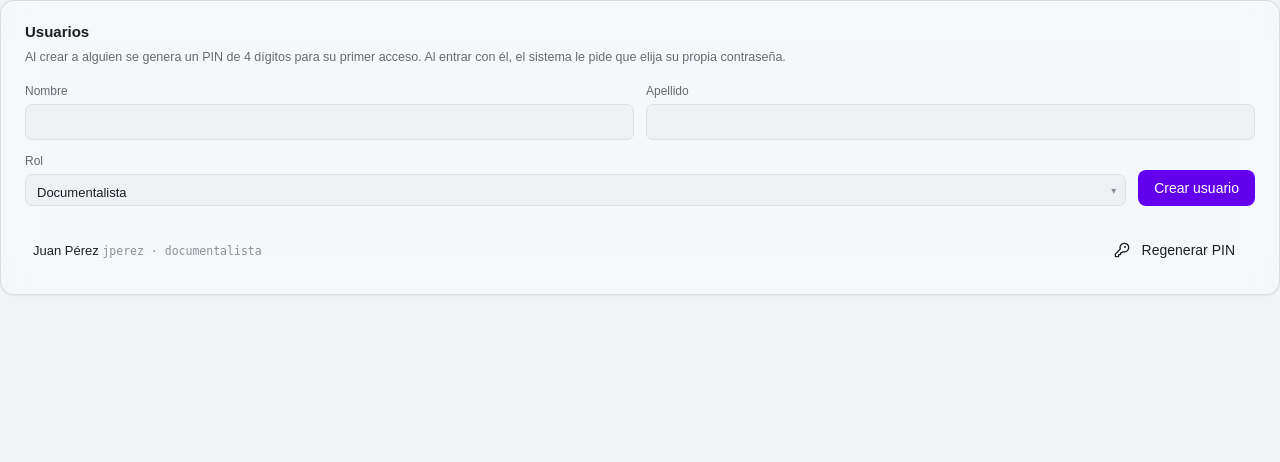
Scenario: UsersCard › muestra el PIN una sola vez al crear, con el aviso de que no se repite
Expected: the text "Juan Pérez" is shown, [33,242,99,258]
Type "María" into the field labelled "Nombre" at (330, 122), box [25,104,634,140]
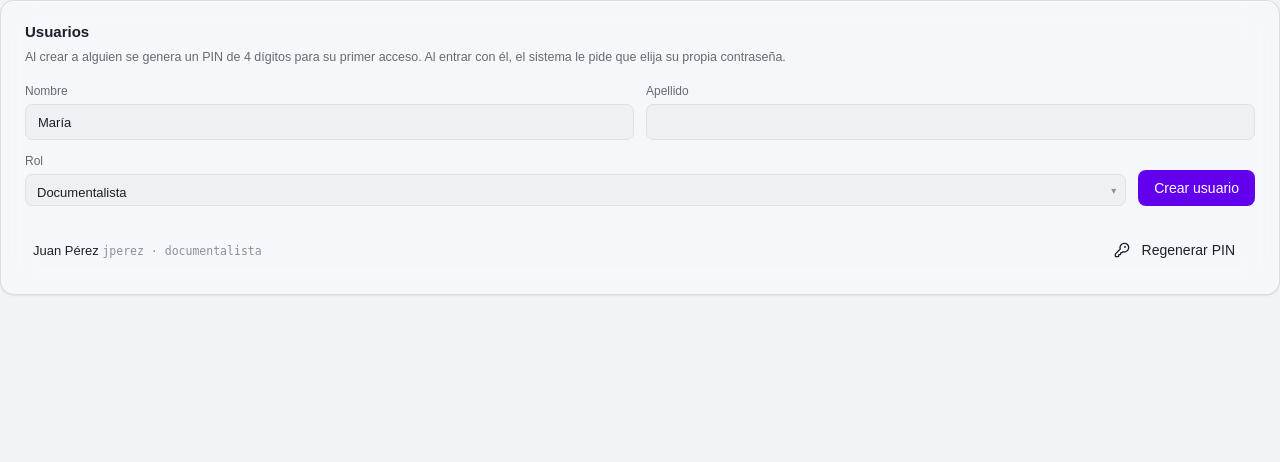
Type "Gómez" into the field labelled "Apellido" at (950, 122), box [646,104,1255,140]
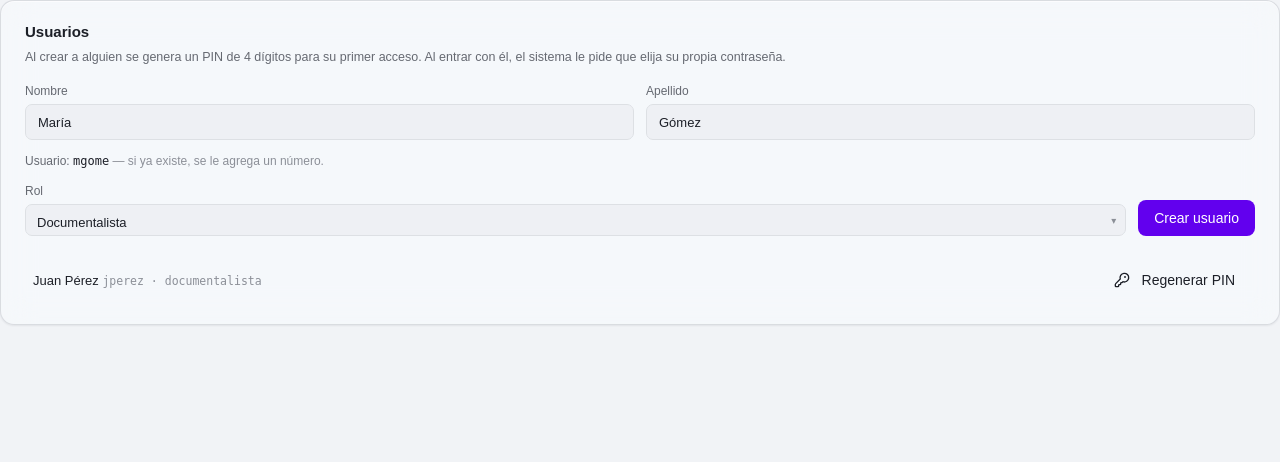
Click the button "Crear usuario" at (1197, 218), box [1138,200,1255,236]
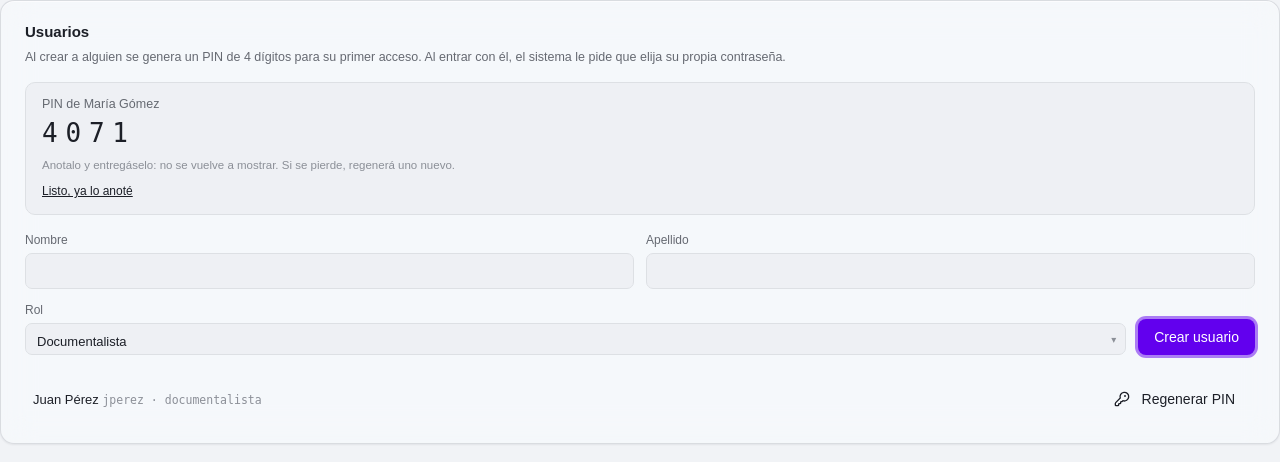
Expected: the text "4071" is shown, [42,118,136,148]
Expected: the text "no se vuelve a mostrar" is shown, [42,159,455,171]
